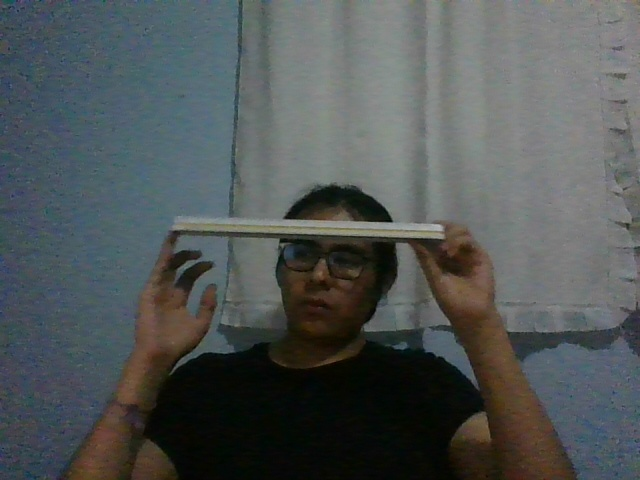regla: (171, 215, 446, 243)
